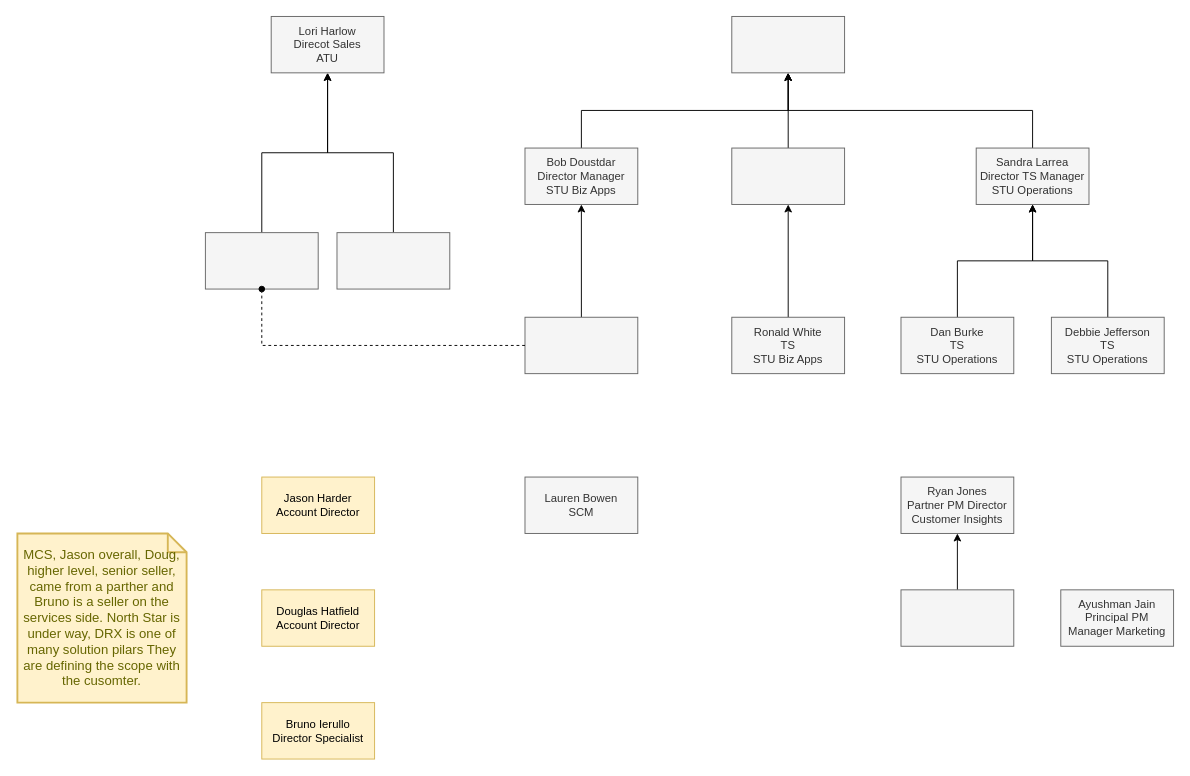
The diagram is 1190 pixels wide and 776 high, and some of its shapes have lost their labels. The shapes that lost their labels are listed below. From the top down, each one's centre as x and y in pixels, then its label:
At pixel 788 44: "Brian Remmel Director Specilasist Manager STU Biz Apps".
At pixel 788 175: "Jenee Winter Director TS Manager STU Biz Apps".
At pixel 261 260: "Mark Tanin CEO ATU".
At pixel 393 260: "Ed Luck CTO ATU".
At pixel 581 345: "James Wang Director Specialist STU Biz Apps".
At pixel 957 617: "Deepak Palled Principal PM Manager Customer Insights".
